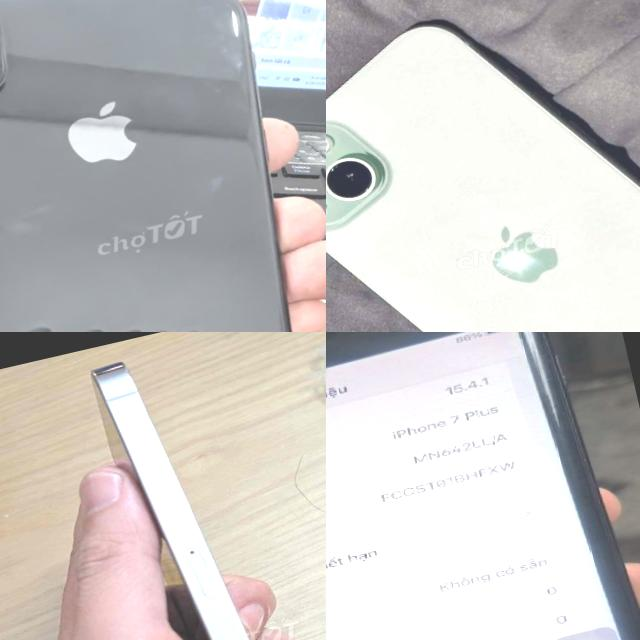gen_14: (78, 332, 326, 640)
gen_15: (326, 0, 640, 332)
gen_7_8: (326, 332, 640, 640)
gen_x_xs: (0, 0, 326, 332)
scratch: (494, 332, 575, 434)
